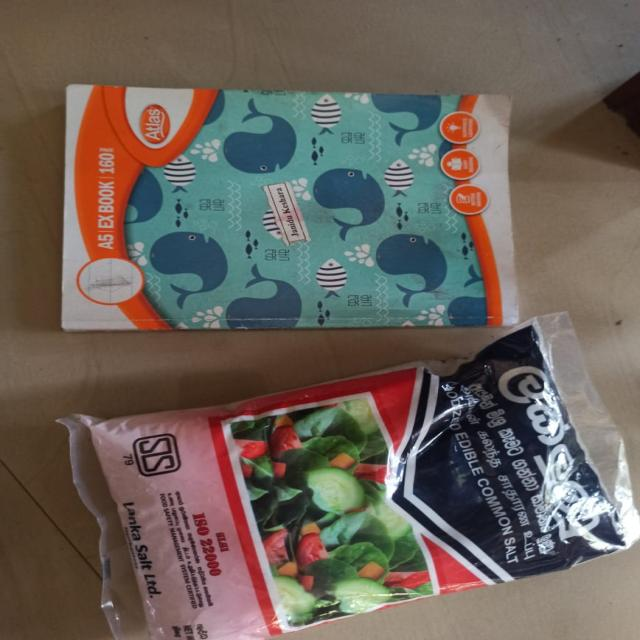Lak Lunu: (0, 334, 640, 640)
